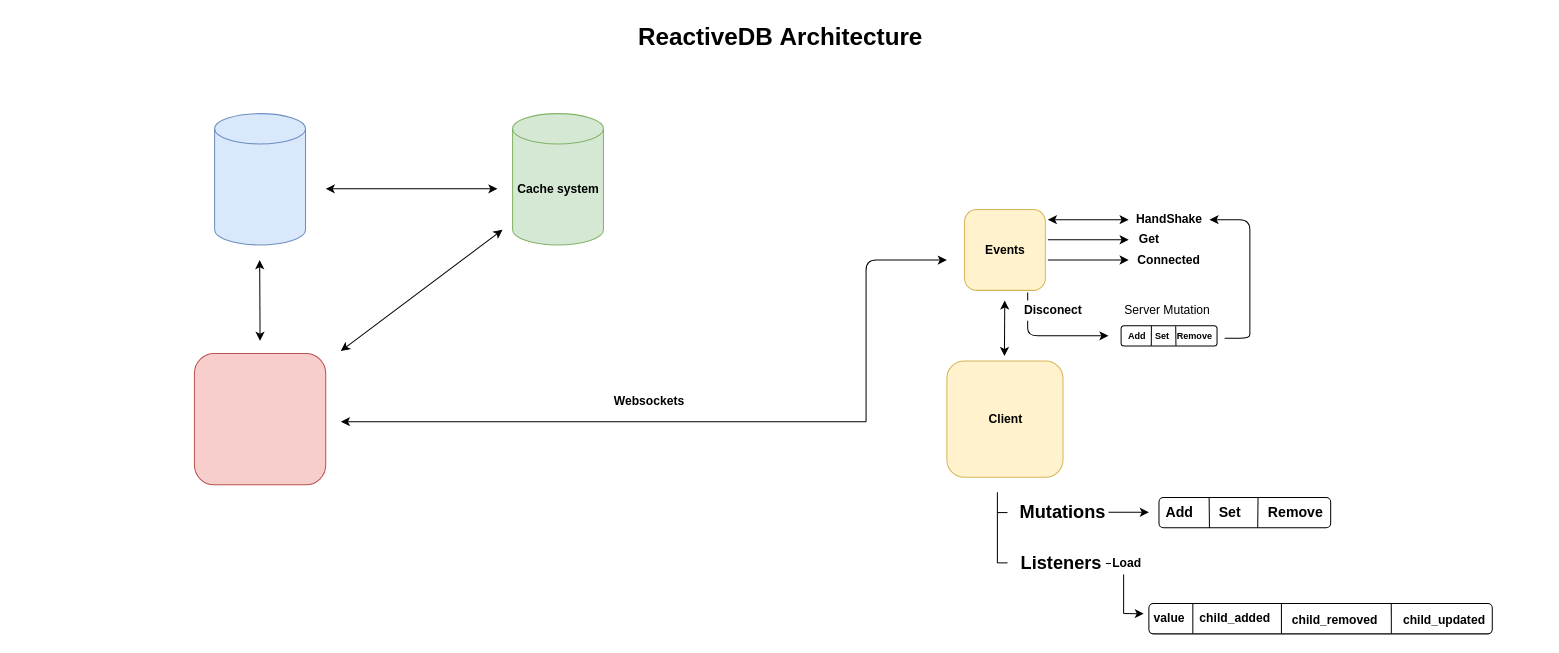
The diagram is 1559 pixels wide and 653 high, and some of its shapes have lost their labels. Here are the shapes that lost their labels. From the top down, the centre of each, then its label:
the point at 260,179: DataBase
the point at 259,418: Core/Controller
